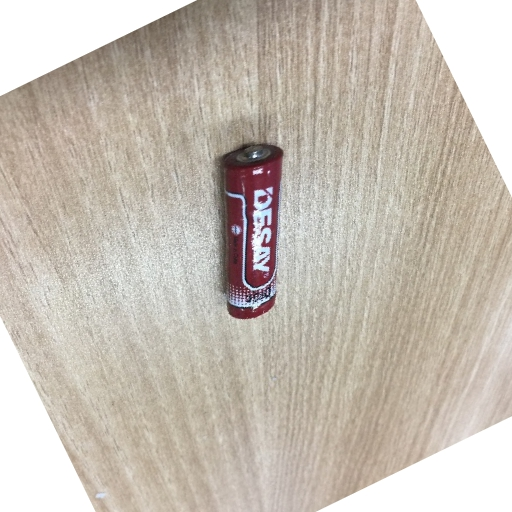Battery_0: (212, 129, 292, 334)
